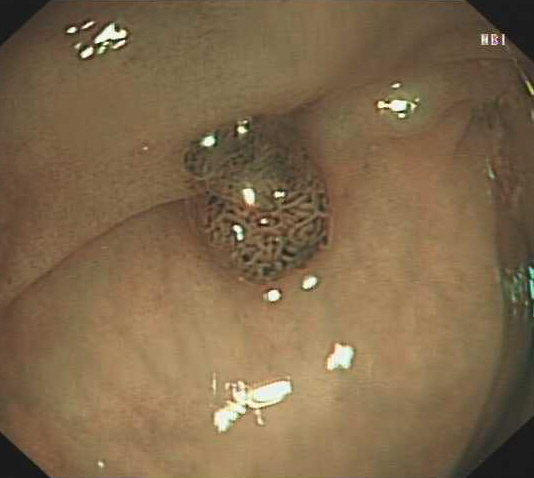adenoma: (177, 112, 333, 291)
